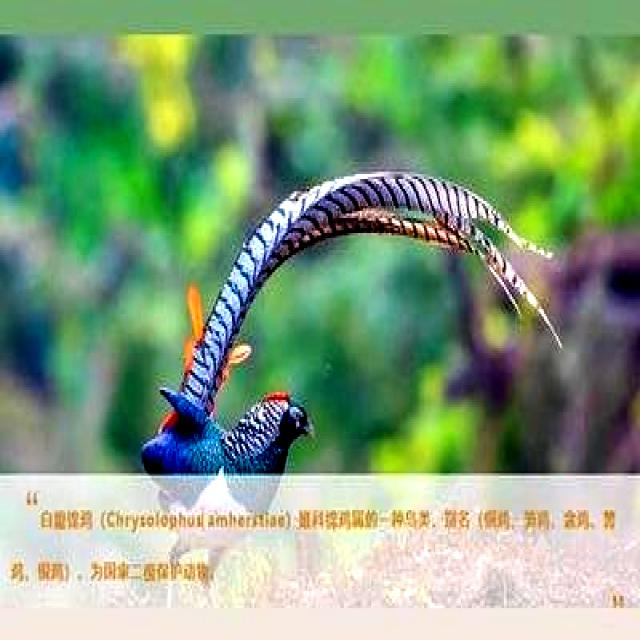Chrysolophus amherstiae: (181, 172, 552, 400)
